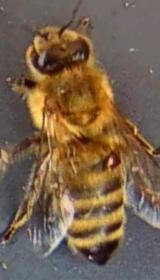varroa_mite: (88, 146, 128, 177)
